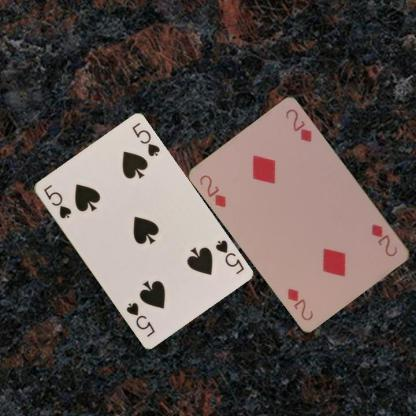2d: (369, 220, 399, 259), (197, 172, 228, 209)
5s: (212, 237, 245, 275), (40, 182, 72, 220)
